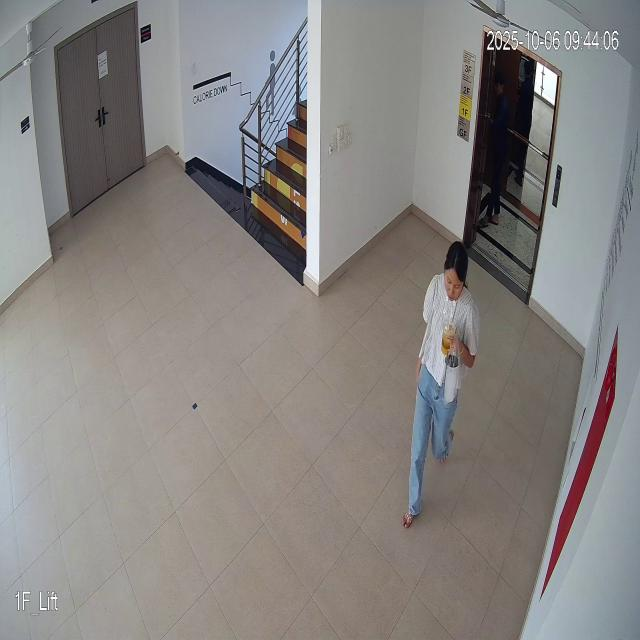face: (440, 237, 472, 310)
